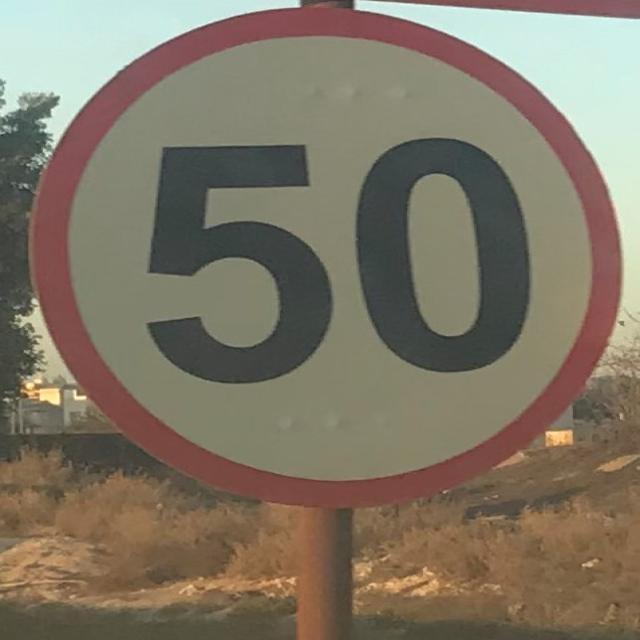Limite-50: (24, 5, 625, 511)
